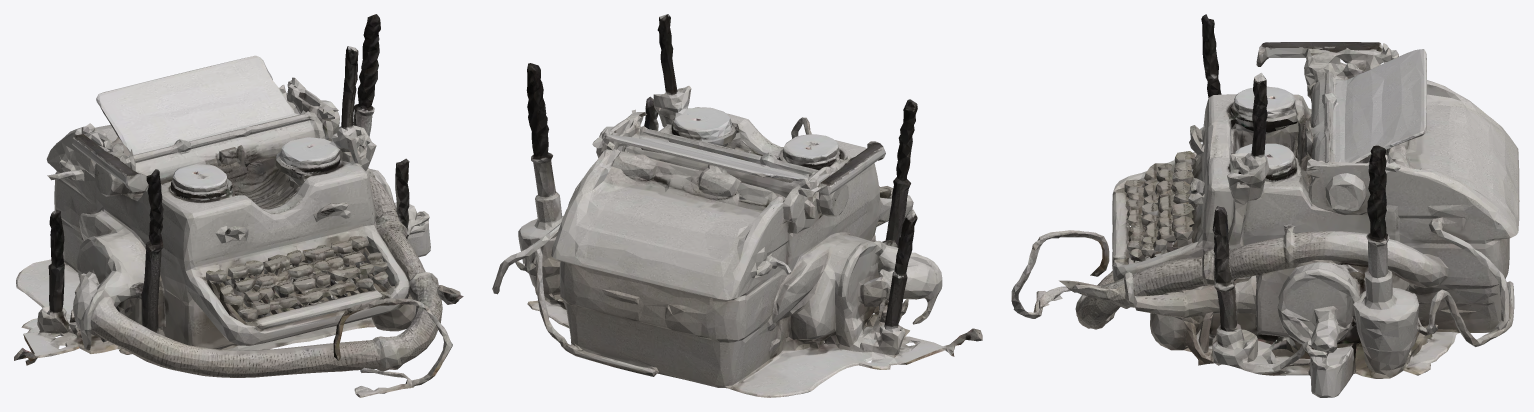
The model's file is belly (16).glb.
3 renders of one model, left to right at view 1: azimuth 30°, elevation 25°; view 2: azimuth 150°, elevation 25°; view 3: azimuth 270°, elevation 25°, orthographic. The views are drawn at different scales.
Parts seen in each view (by area): view 1: Hy21_Mesh.obj; view 2: Hy21_Mesh.obj; view 3: Hy21_Mesh.obj.
Part boxes in pixels (x1,y1,x2,y2): Hy21_Mesh.obj: [14, 14, 463, 397]; Hy21_Mesh.obj: [492, 14, 982, 397]; Hy21_Mesh.obj: [1011, 14, 1519, 397].
Size of the model in its own units: 1.9 by 1.08 by 1.8.
Materials: 1 (1 with a texture image).
